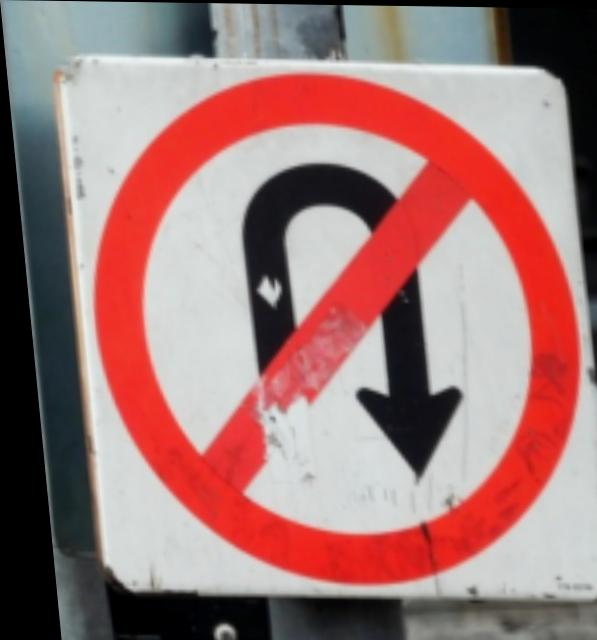not_u_turn_right: (69, 91, 597, 580)
